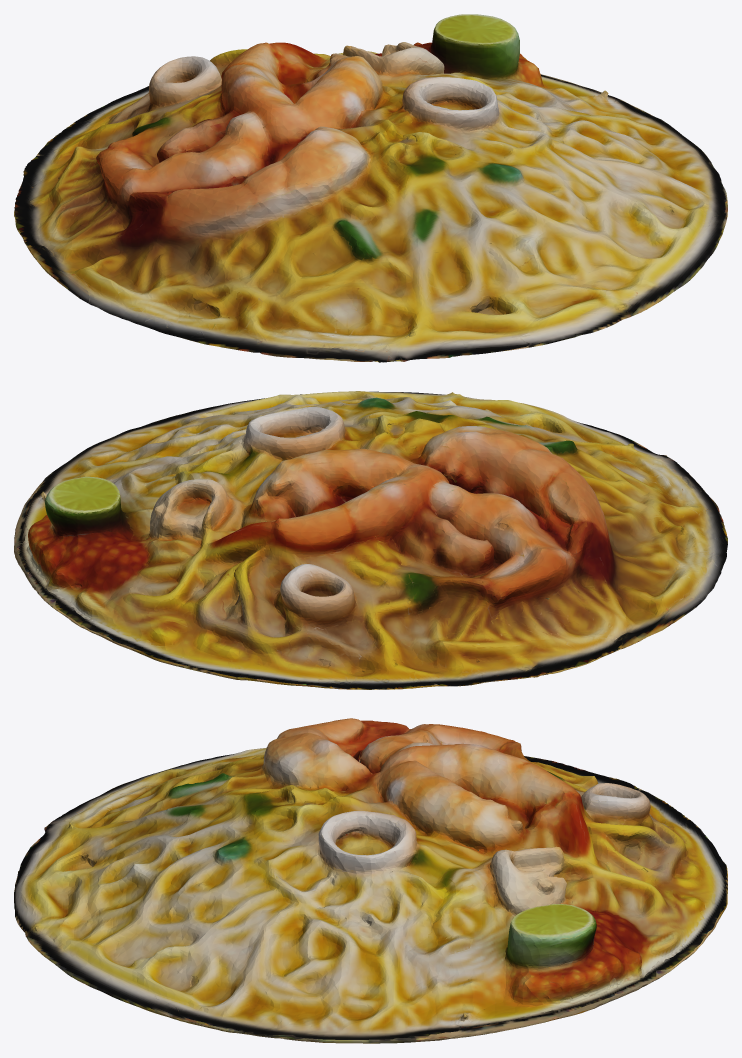
Rendered from prawnnoodle.fbx.
The picture shows the model from 3 angles, top to bottom: view 1: azimuth 30°, elevation 25°; view 2: azimuth 150°, elevation 25°; view 3: azimuth 270°, elevation 25°; orthographic projection.
Visible parts, largest first — view 1: world; view 2: world; view 3: world.
Part boxes in pixels (<box>): world: <box>14,14,727,362</box>; world: <box>14,391,727,689</box>; world: <box>14,718,727,1043</box>.
Size of the model in its own units: 100 by 18.07 by 100.
